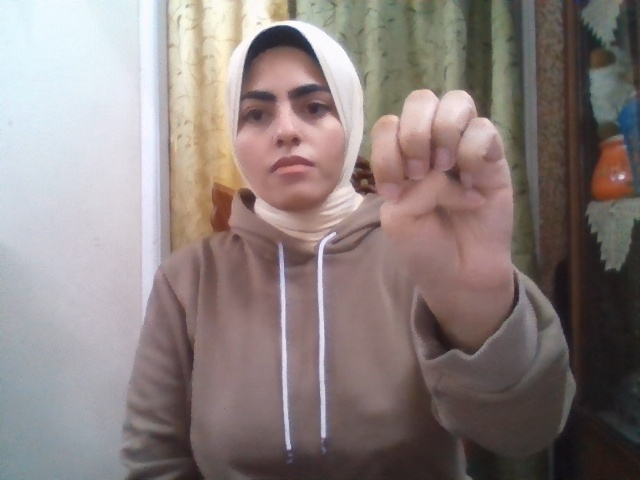E: (371, 88, 514, 297)
